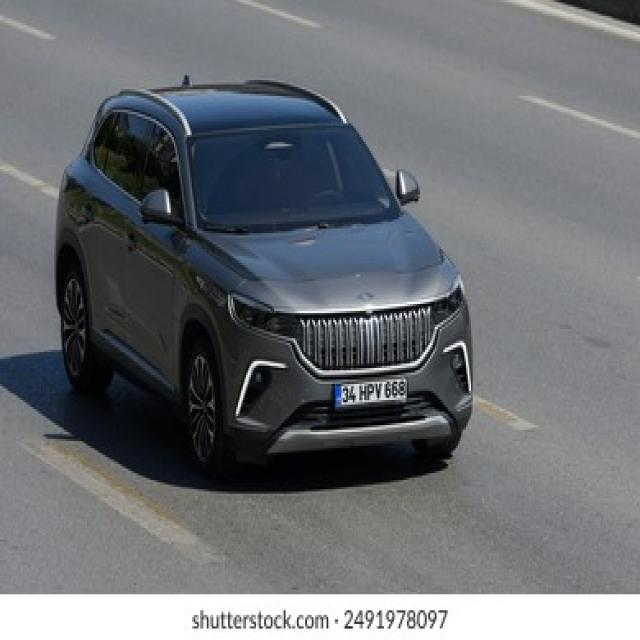togg: (348, 286, 376, 310)
